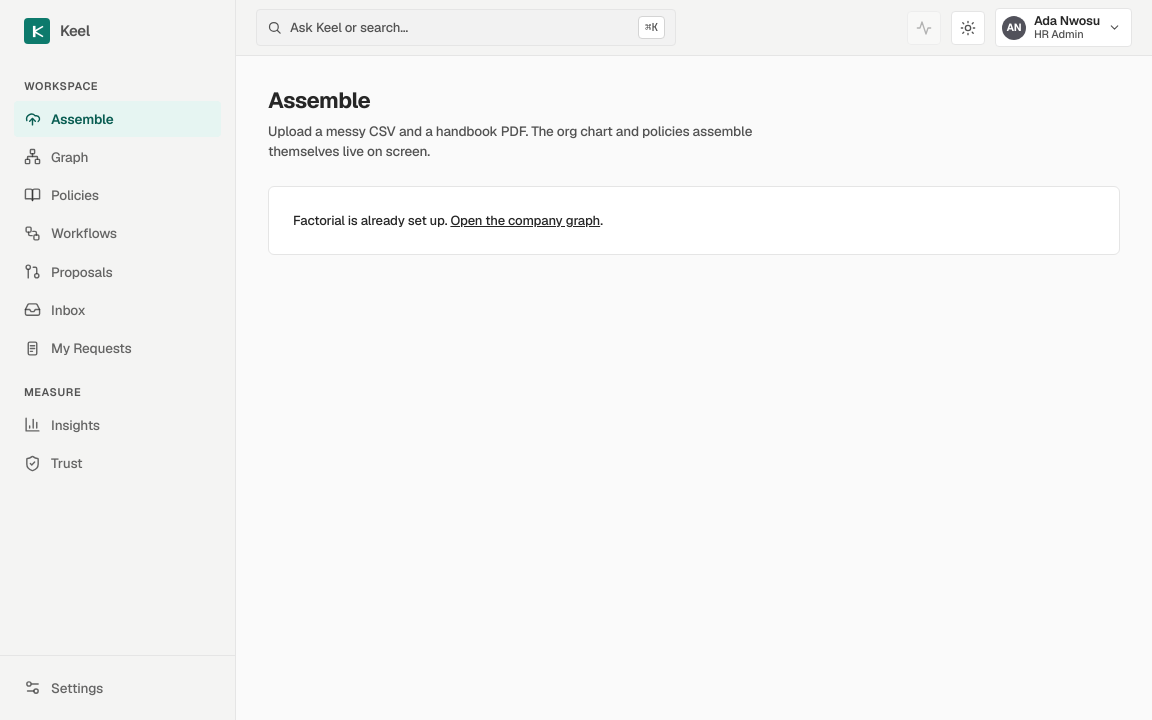
Test: Topbar › signs the person out from the chip menu, not a click on the chip itself
# Clicking the chip itself only opens the menu — it must not sign out by itself.
Click the button with test id "person-chip".
click(1063, 28)  # box [995, 8, 1132, 47]
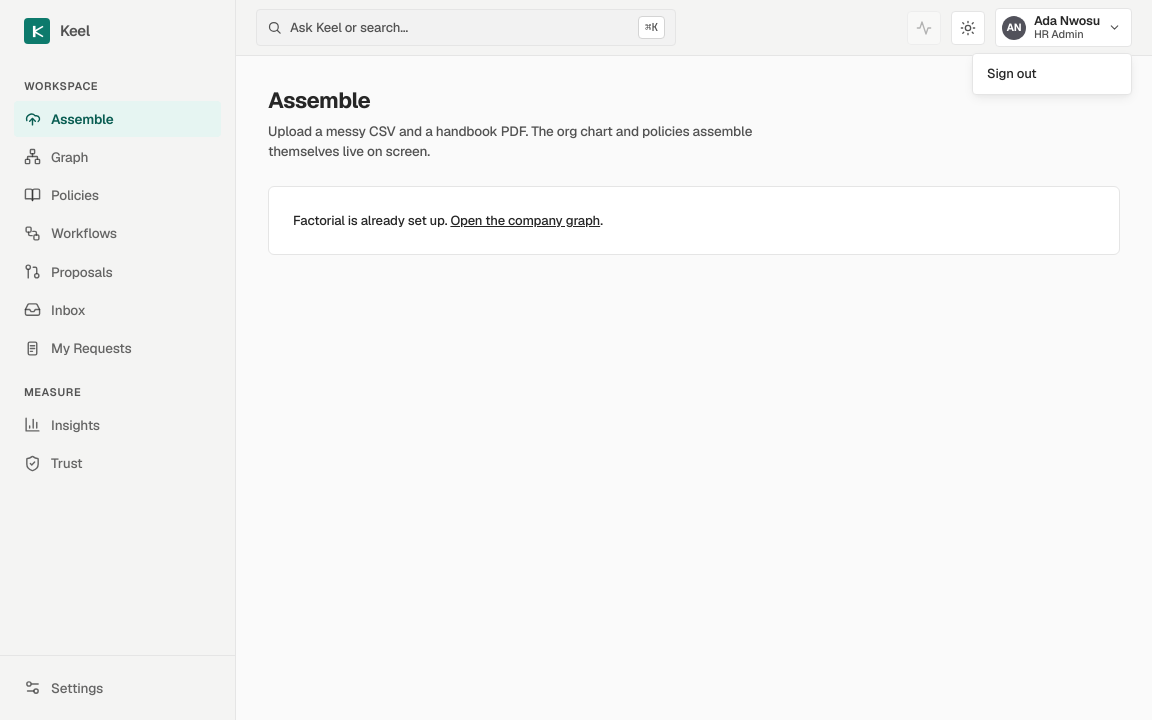
Click the menu item "Sign out".
click(1012, 74)  # box [987, 65, 1036, 82]
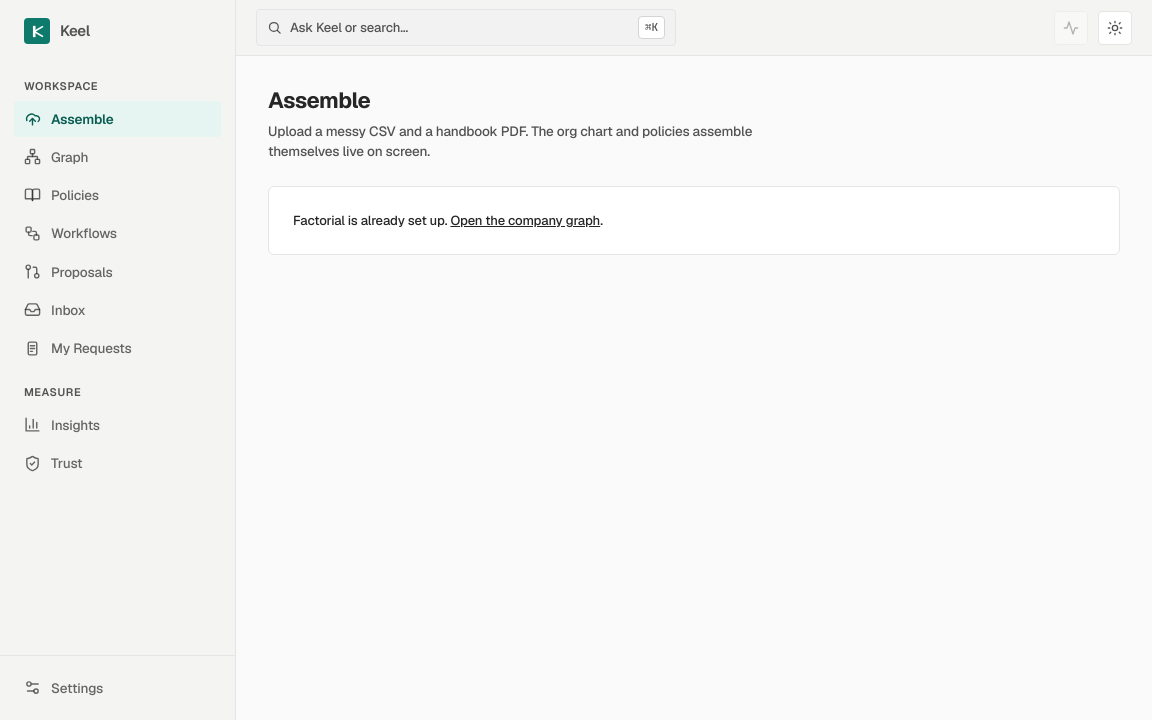
expect the button with test id "person-chip" is gone: met
